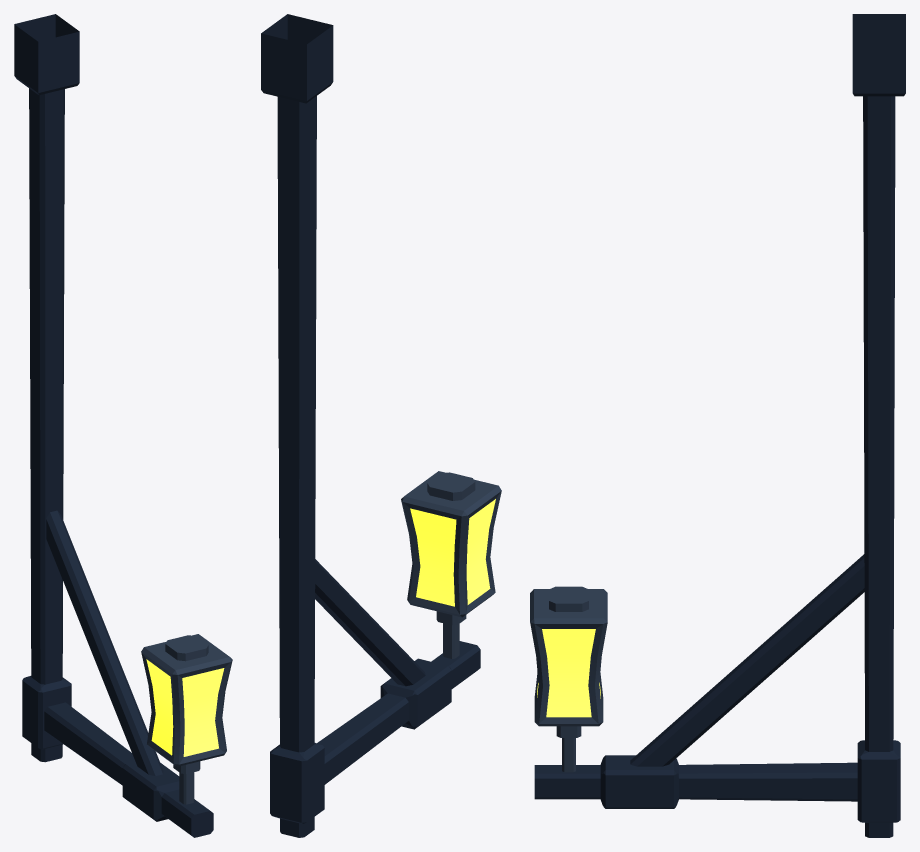
The model's file is streetlight.glb.
3 views of the same model, side by side, from view 1: azimuth 30°, elevation 25°; view 2: azimuth 150°, elevation 25°; view 3: azimuth 270°, elevation 25° (orthographic). The views are drawn at different scales.
Parts seen in each view (by area): view 1: streetlight_a001.001; view 2: streetlight_a001.001; view 3: streetlight_a001.001.
Part boxes in pixels (bbox=[...]): streetlight_a001.001: bbox=[14, 14, 232, 837]; streetlight_a001.001: bbox=[261, 14, 501, 837]; streetlight_a001.001: bbox=[530, 14, 905, 837].
Size of the model in its own units: 0.1676 by 1.92 by 0.8104.
